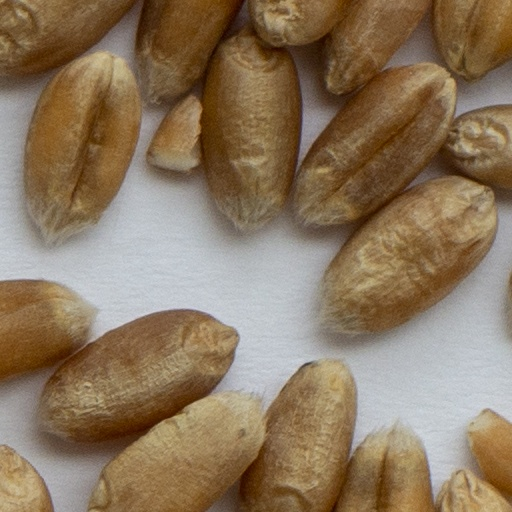Wheat-grain-damaged-poly: (144, 91, 205, 175), (466, 408, 511, 500)
Wheat-grain-poly: (35, 308, 235, 442), (83, 394, 263, 511), (239, 358, 360, 511), (331, 418, 433, 511), (435, 467, 511, 511)
